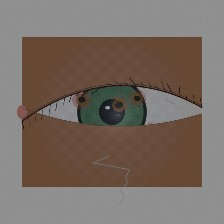foreign_body_visible: (97, 88, 141, 122)
